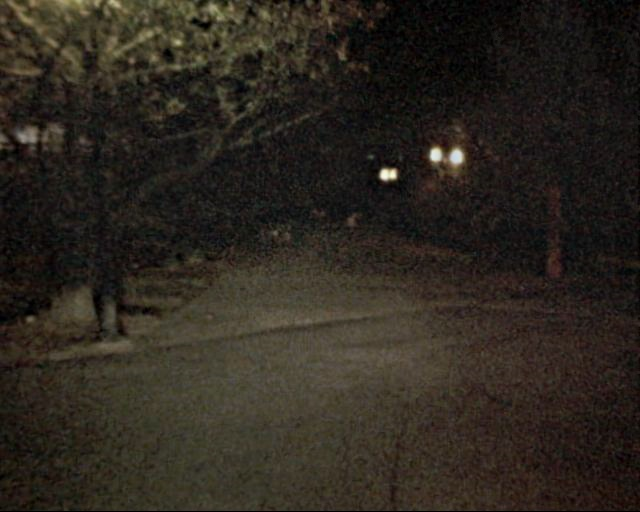person: (342, 210, 361, 256)
